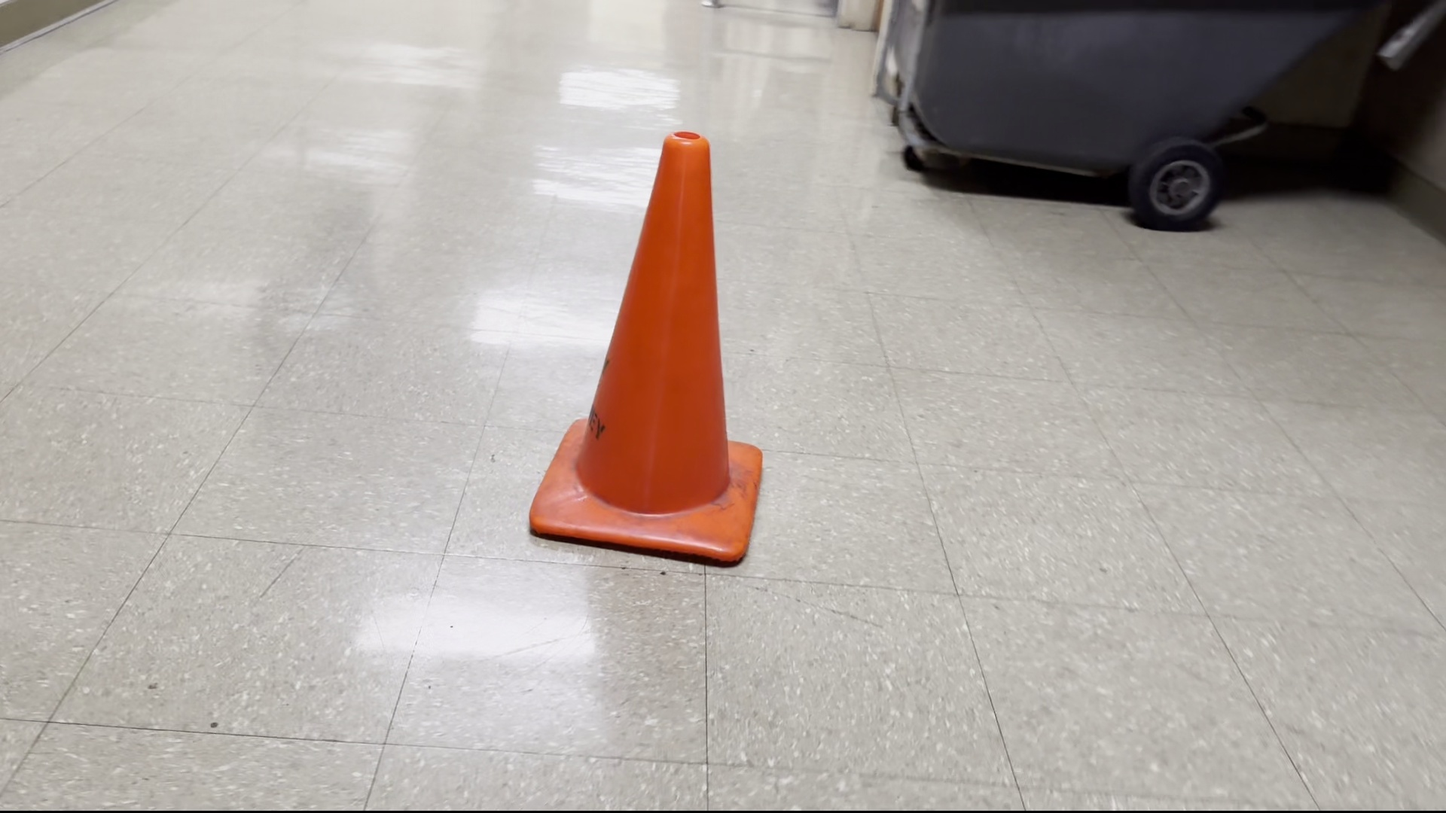traffic_cone: (528, 129, 764, 566)
